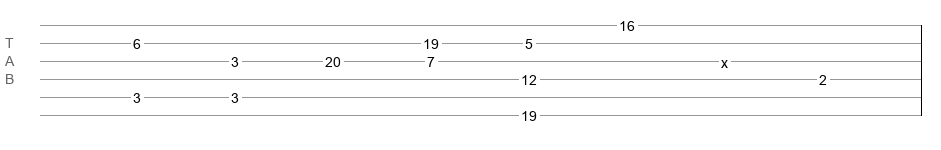12: (521, 72, 537, 82)
16: (619, 18, 635, 28)
19: (423, 36, 439, 46), (521, 108, 537, 118)
2: (819, 72, 827, 82)
20: (325, 54, 341, 64)
3: (133, 90, 141, 100), (231, 90, 239, 100), (231, 54, 239, 64)
5: (525, 36, 533, 46)
6: (133, 36, 141, 46)
7: (427, 54, 435, 64)
x: (721, 55, 728, 63)
